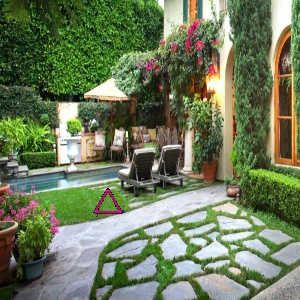triangle: (91, 185, 124, 216)
